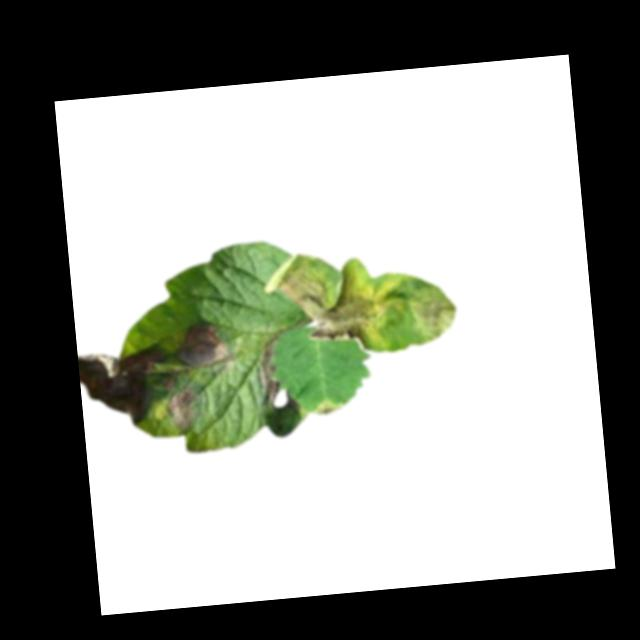Late_blight: (265, 260, 391, 354), (77, 347, 170, 432), (407, 279, 462, 346), (175, 320, 233, 372), (257, 333, 284, 408), (166, 385, 200, 435), (316, 400, 348, 420)
